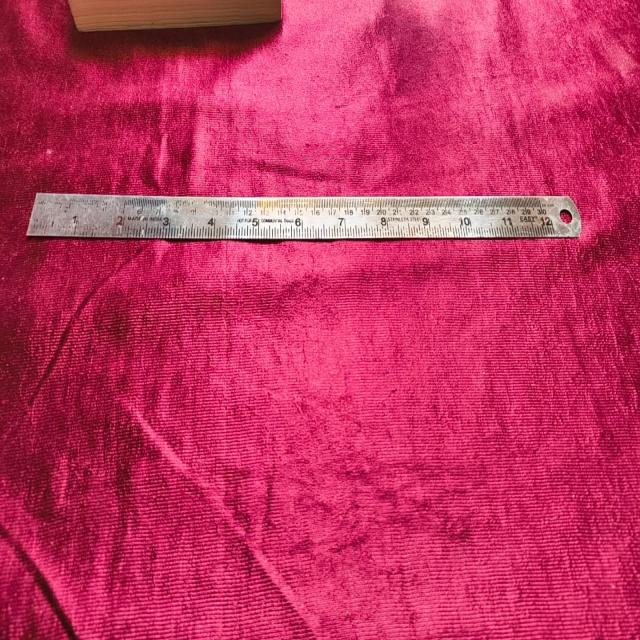scale: (26, 193, 581, 235)
